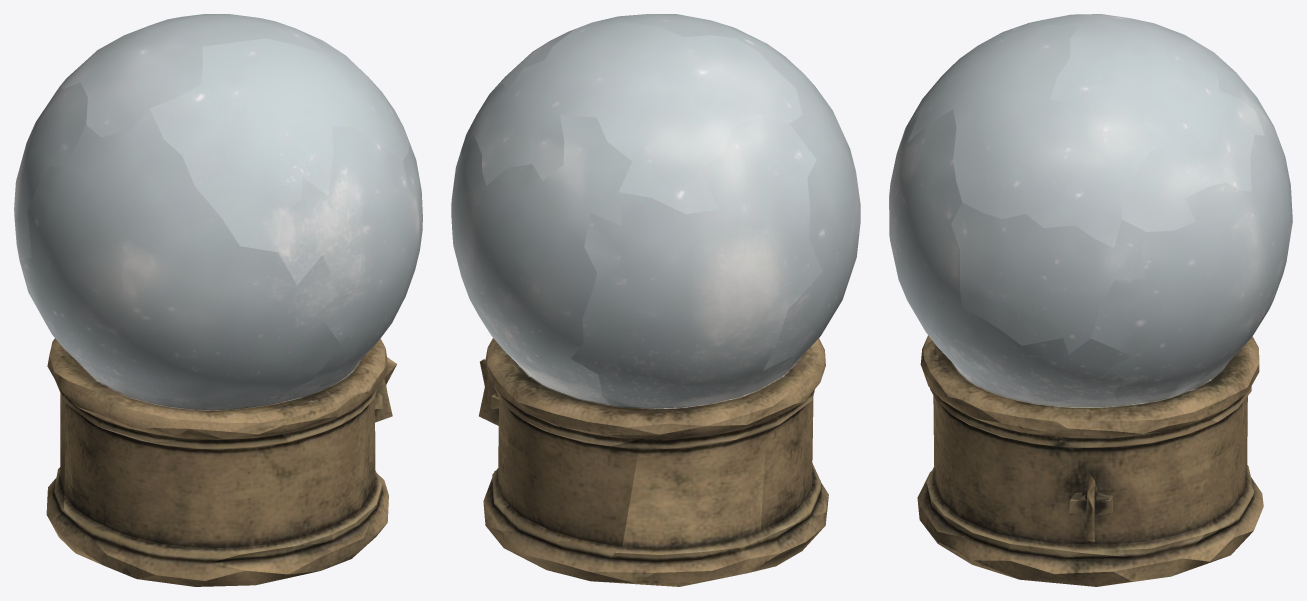
The picture shows the model from 3 angles, left to right: view 1: azimuth 30°, elevation 25°; view 2: azimuth 150°, elevation 25°; view 3: azimuth 270°, elevation 25°; orthographic projection.
Parts seen in each view (by area): view 1: world; view 2: world; view 3: world.
Part boxes in pixels (x1=…): world: x1=14, y1=14, x2=422, y2=586; world: x1=451, y1=14, x2=860, y2=586; world: x1=889, y1=14, x2=1292, y2=586.
Bounding box in the file's own units: 0.1231 × 0.16 × 0.1219.
1 material, 1 textured.
